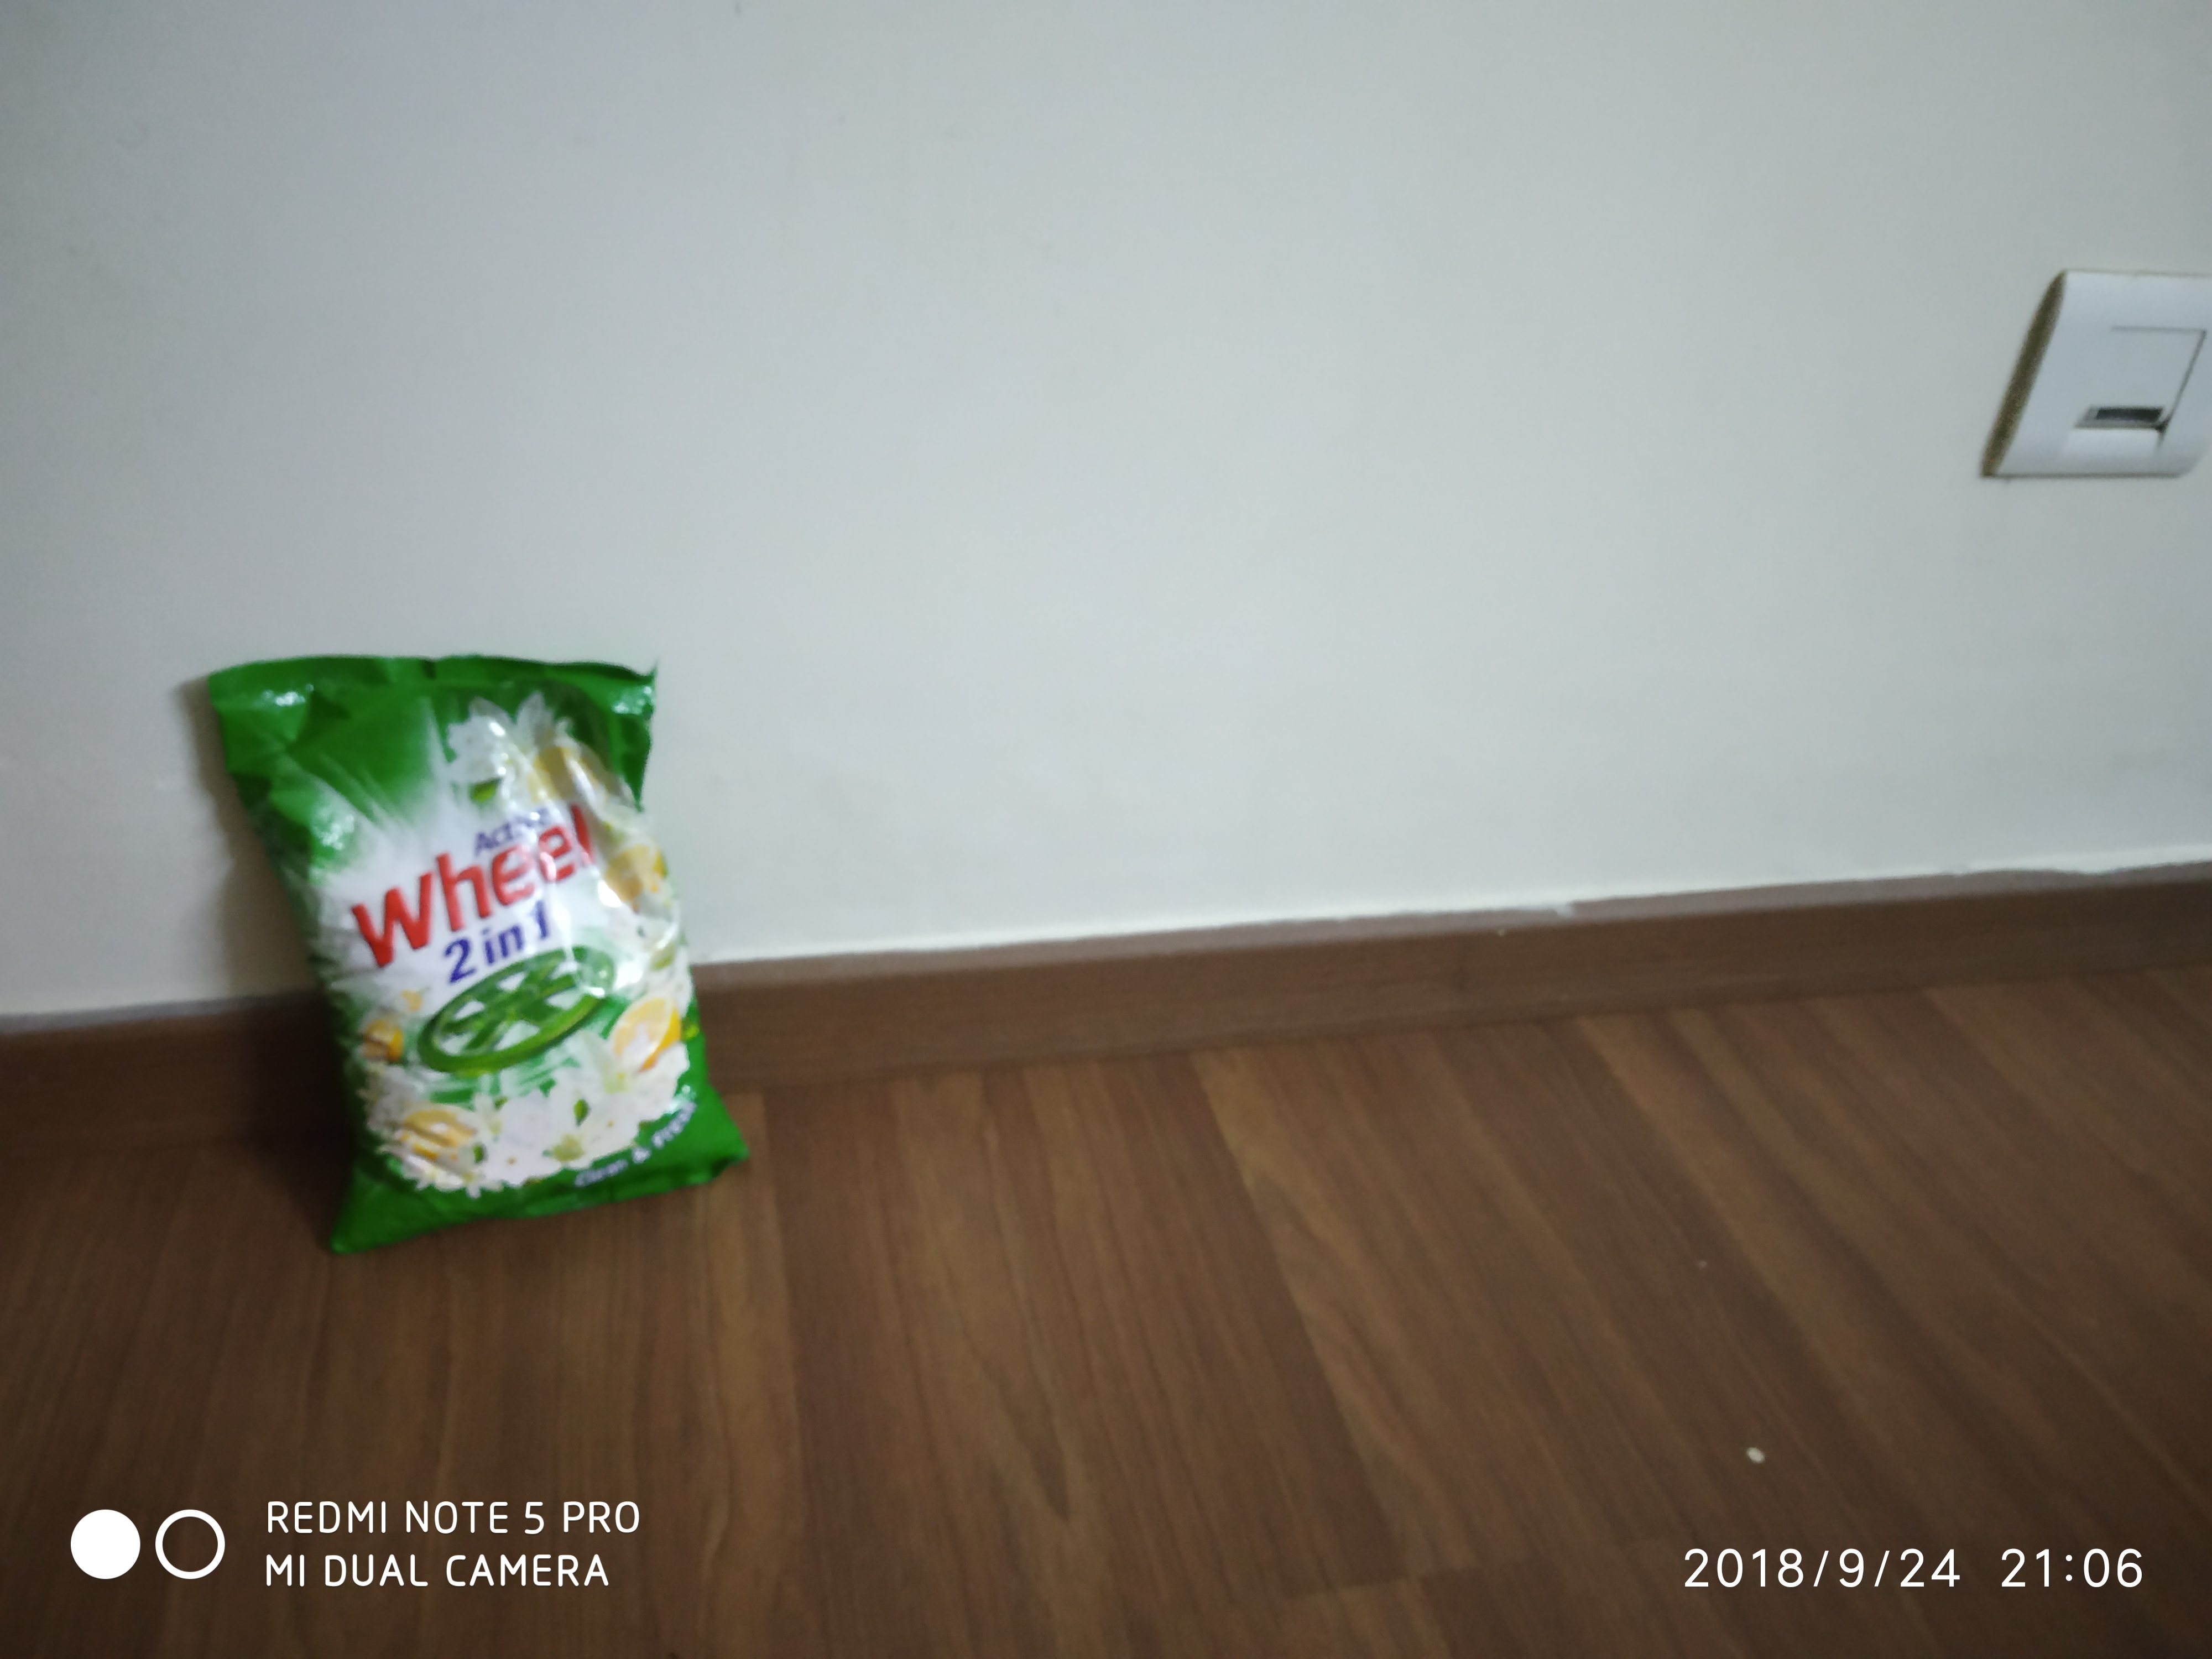detergent: (205, 651, 755, 1201)
